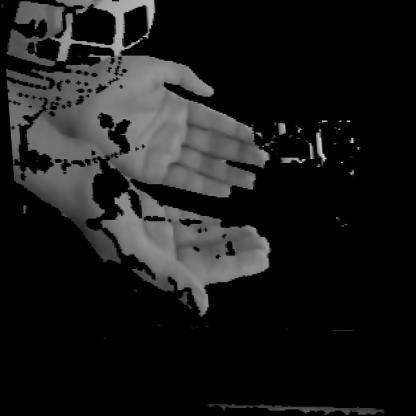dua: (3, 34, 320, 326)
